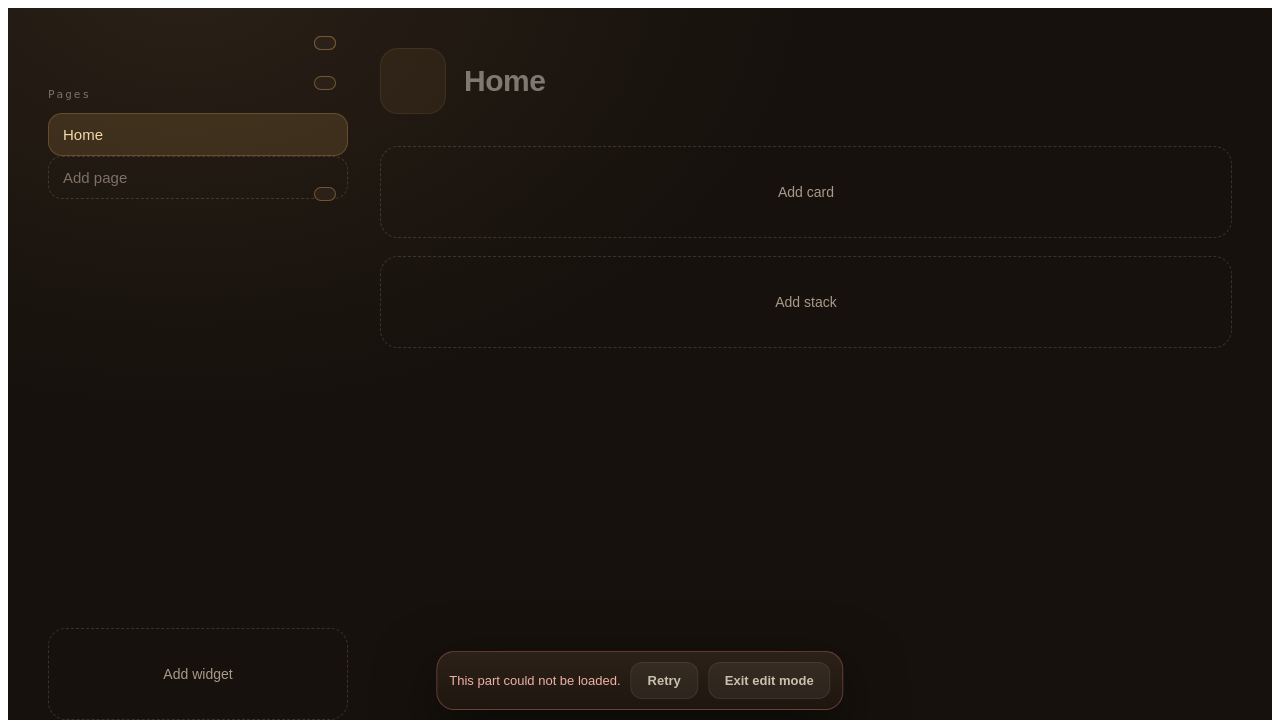
Test: HearthDashboard when edit mode cannot load › hides the bar while the editor host is missing and loads both again on Retry
Expected: the text "This part could not be loaded." is shown, [449, 673, 621, 688]
Expected: the button "Save" is not shown
Click the button "Retry" at (664, 680), box [631, 662, 698, 699]
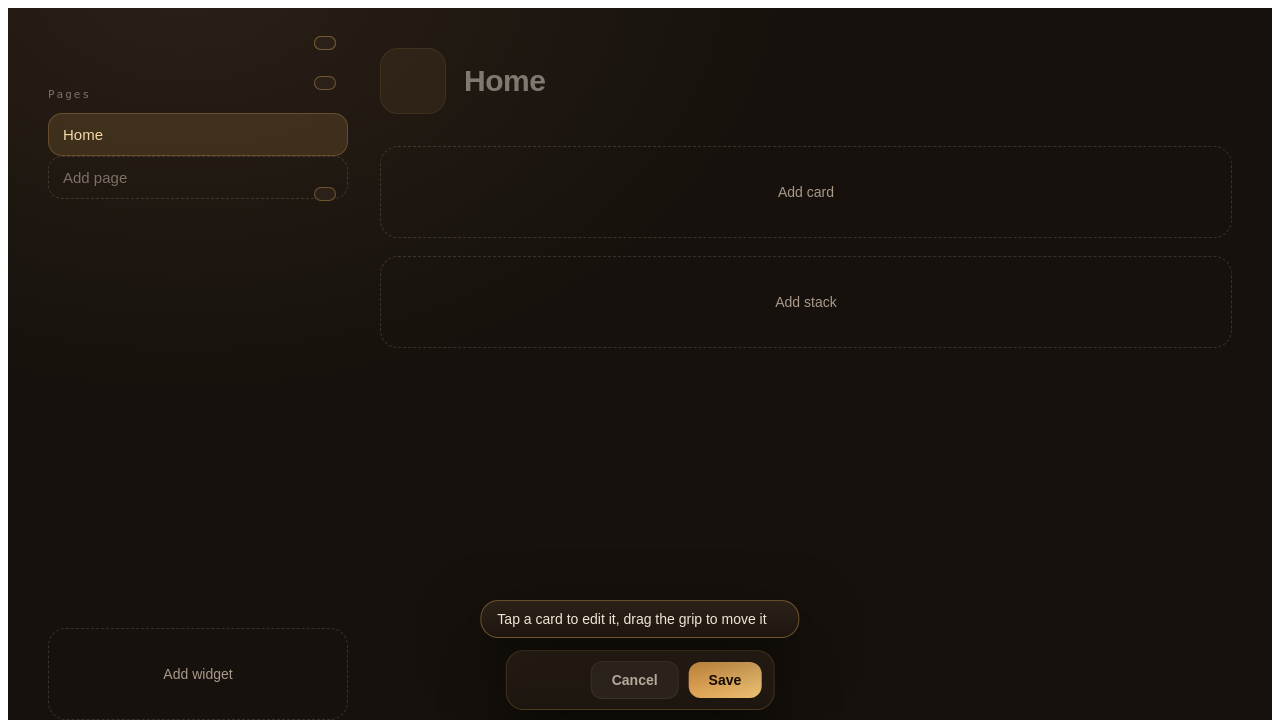
Expected: the button "Save" is shown, [689, 662, 761, 698]
Expected: the text "This part could not be loaded." is gone
